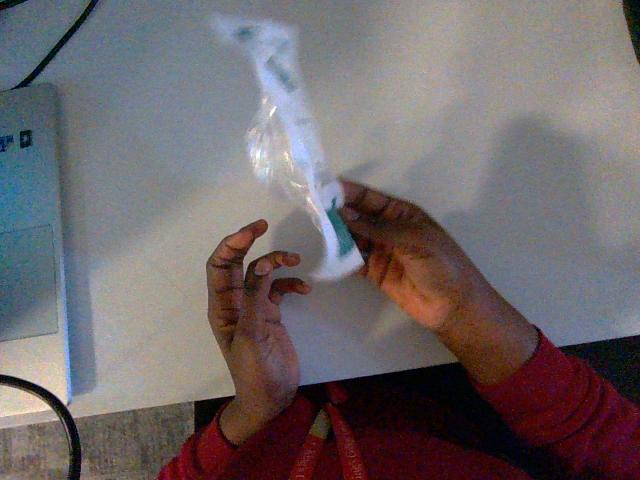gallipot: (212, 15, 363, 279)
